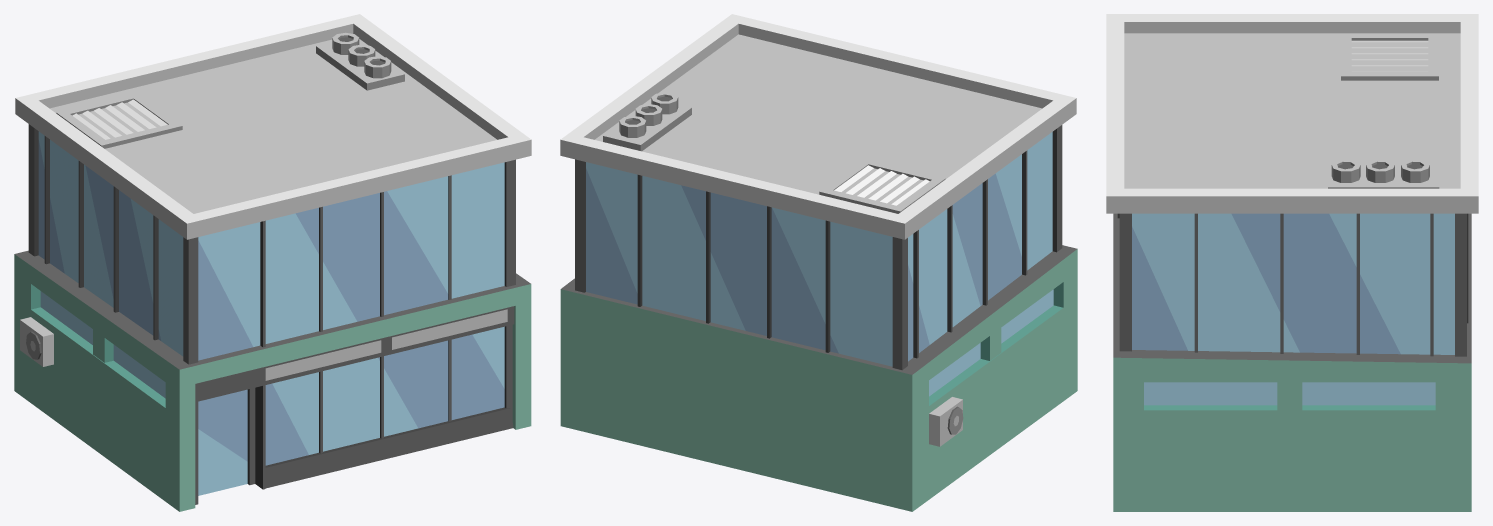
File: supermarket_001.fbx
The picture shows the model from 3 angles, left to right: view 1: azimuth 30°, elevation 25°; view 2: azimuth 150°, elevation 25°; view 3: azimuth 270°, elevation 25°; orthographic projection. The views are drawn at different scales.
Parts seen in each view (by area): view 1: supermarket_001; view 2: supermarket_001; view 3: supermarket_001.
Part boxes in pixels (<box>): supermarket_001: <box>14,14,531,511</box>; supermarket_001: <box>560,14,1077,511</box>; supermarket_001: <box>1106,14,1478,511</box>.
Bounding box in the file's own units: 738 × 579 × 603.
